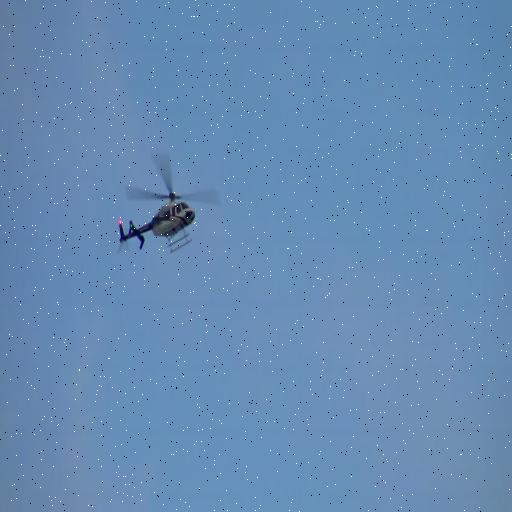helicopter: (118, 154, 219, 258)
